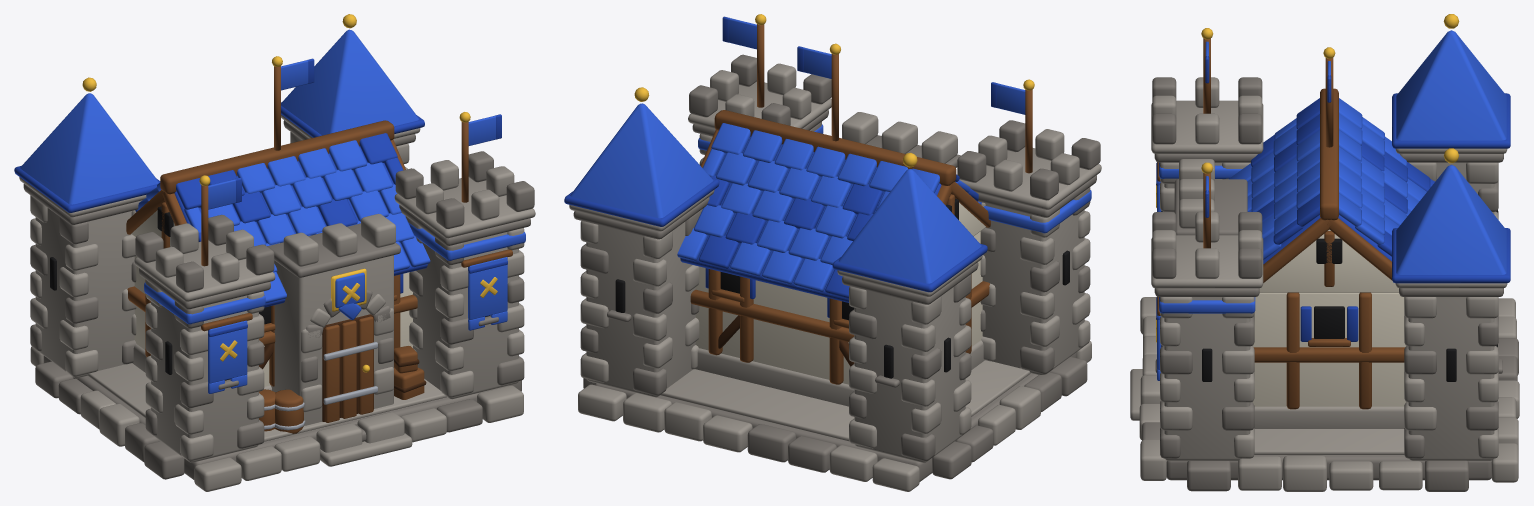
The model's file is TownCentre.glb.
The picture shows the model from 3 angles, left to right: view 1: azimuth 30°, elevation 25°; view 2: azimuth 150°, elevation 25°; view 3: azimuth 270°, elevation 25°; orthographic projection. The views are drawn at different scales.
Parts seen in each view (by area): view 1: TownCentre, anim_sway_20_25_flag2, anim_sway_20_22_flag1, anim_sway_24_28_flag0; view 2: TownCentre, anim_sway_20_22_flag1, anim_sway_24_28_flag0, anim_sway_20_25_flag2; view 3: TownCentre.
Boxes of the visible parts, x1,y1,x2,y2 form: TownCentre: (14,14,535,491); anim_sway_20_25_flag2: (468,114,501,145); anim_sway_20_22_flag1: (208,178,241,209); anim_sway_24_28_flag0: (281,58,314,90); TownCentre: (564,14,1101,491); anim_sway_20_22_flag1: (991,82,1025,114); anim_sway_24_28_flag0: (797,46,831,78); anim_sway_20_25_flag2: (722,16,756,49); TownCentre: (1130,14,1519,491).
Size of the model in its own units: 5.12 by 4.52 by 4.53.
